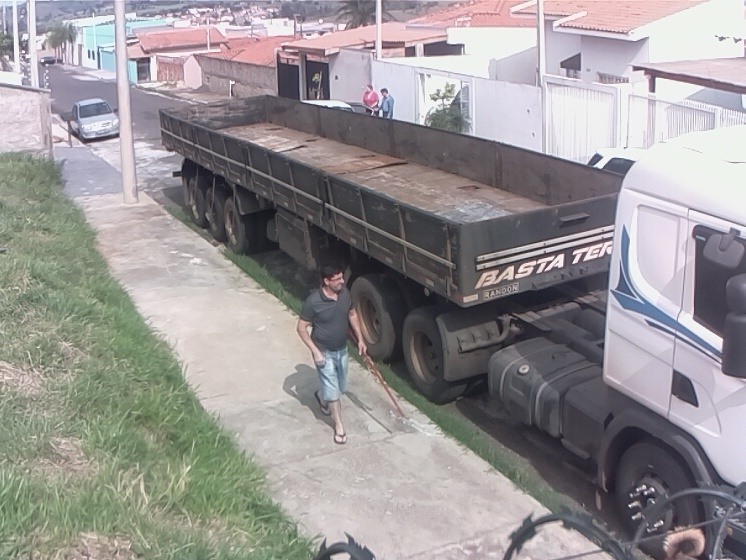person: (294, 264, 367, 448), (361, 84, 381, 119), (378, 87, 395, 121)
